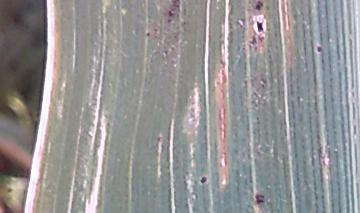tarspot: (167, 1, 183, 19), (251, 192, 268, 208), (253, 17, 268, 34), (313, 39, 325, 56), (198, 171, 209, 186), (254, 1, 265, 10), (156, 134, 164, 143), (143, 30, 151, 38), (153, 27, 160, 34), (165, 51, 171, 57)
